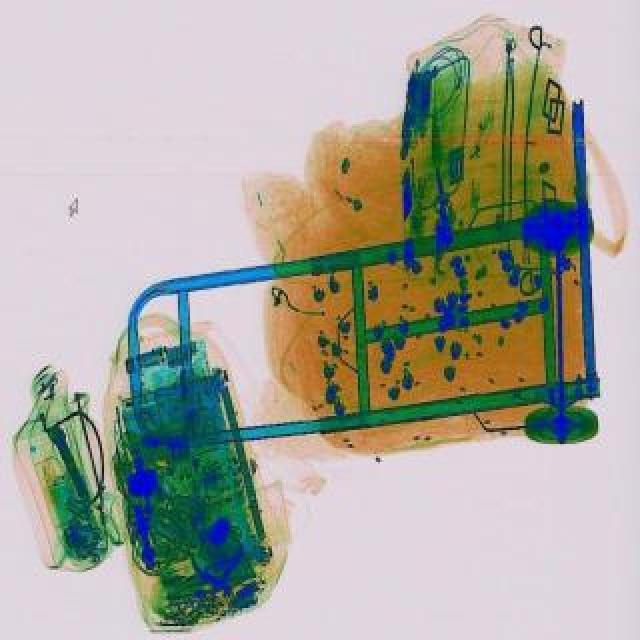wrench: (190, 544, 250, 600)
